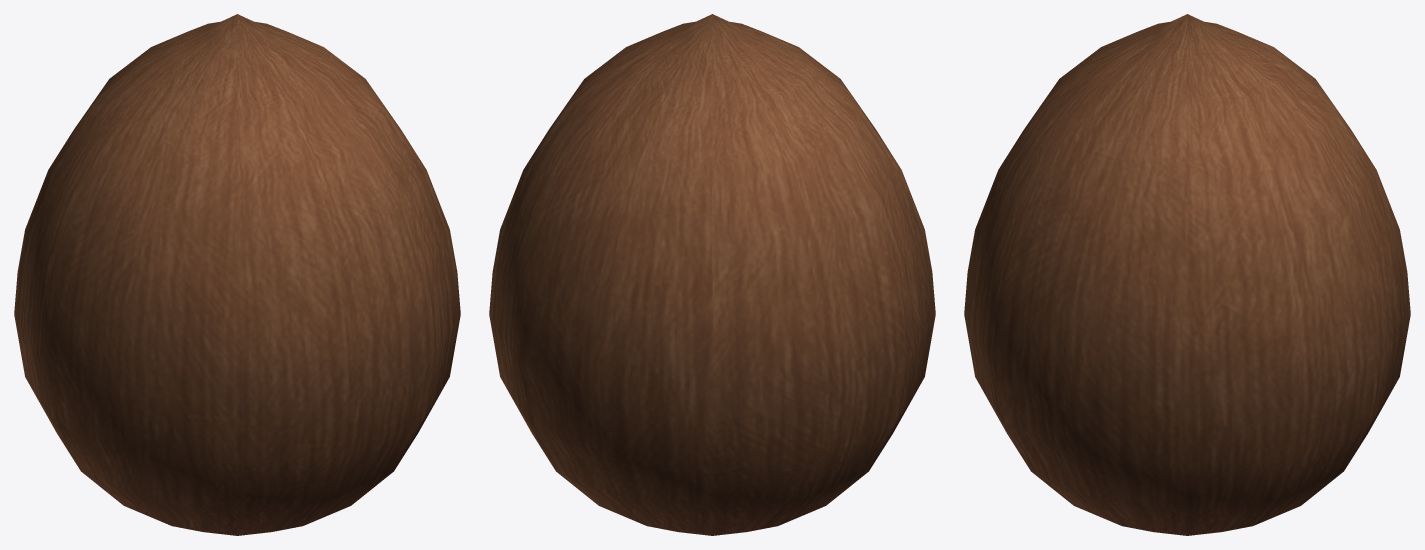
File: Coconut.fbx
The picture shows the model from 3 angles, left to right: view 1: azimuth 30°, elevation 25°; view 2: azimuth 150°, elevation 25°; view 3: azimuth 270°, elevation 25°; orthographic projection.
Visible parts, largest first — view 1: Coconut_Whole; view 2: Coconut_Whole; view 3: Coconut_Whole.
Boxes of the visible parts, x1,y1,x2,y2 form: Coconut_Whole: (14, 14, 460, 535); Coconut_Whole: (489, 14, 935, 535); Coconut_Whole: (964, 14, 1410, 535).
Bounding box in the file's own units: 1.88 × 2.33 × 1.88.
